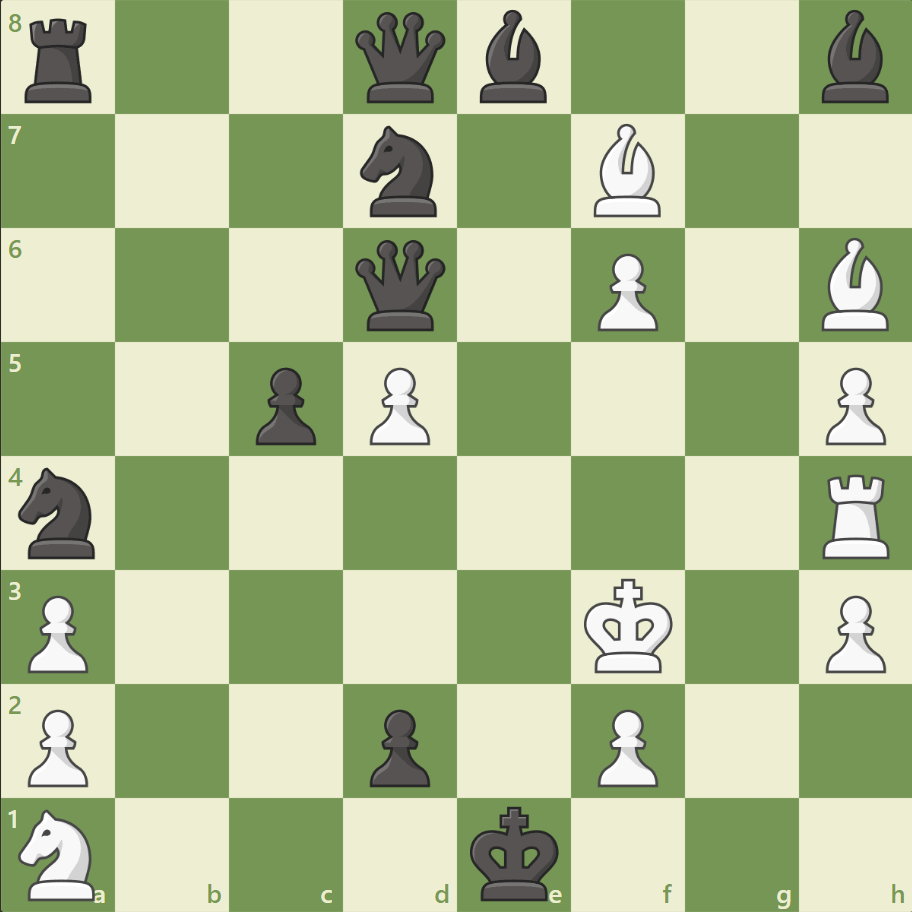B: (812, 233, 896, 336), (585, 120, 669, 222)
K: (579, 571, 679, 679)
N: (11, 802, 108, 904)
P: (20, 586, 95, 677), (20, 700, 95, 791), (588, 246, 662, 337), (361, 359, 435, 450), (815, 359, 889, 450), (815, 586, 889, 677), (588, 700, 662, 791)
R: (814, 466, 897, 563)
b: (471, 6, 555, 109), (812, 6, 896, 109)
k: (465, 798, 565, 906)
n: (351, 121, 449, 223), (11, 461, 108, 564)
p: (247, 359, 322, 450), (361, 700, 435, 791)
q: (351, 9, 450, 108), (351, 236, 450, 335)
r: (19, 12, 102, 109)
